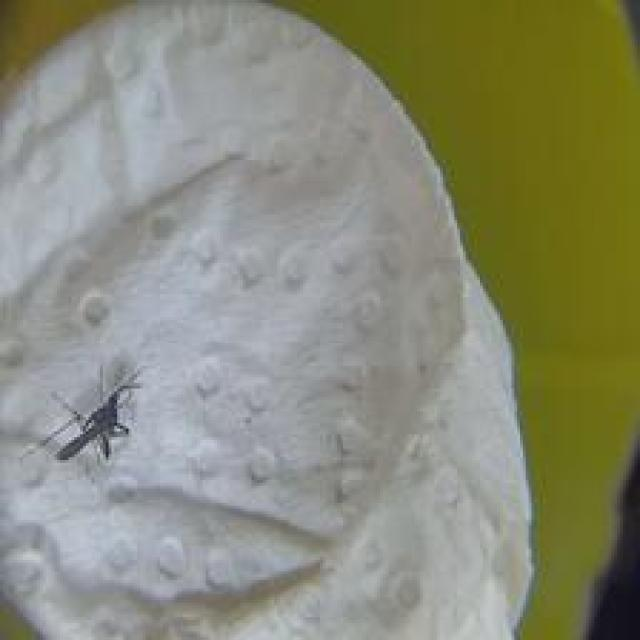Aedes albopictus: (23, 363, 143, 466)
